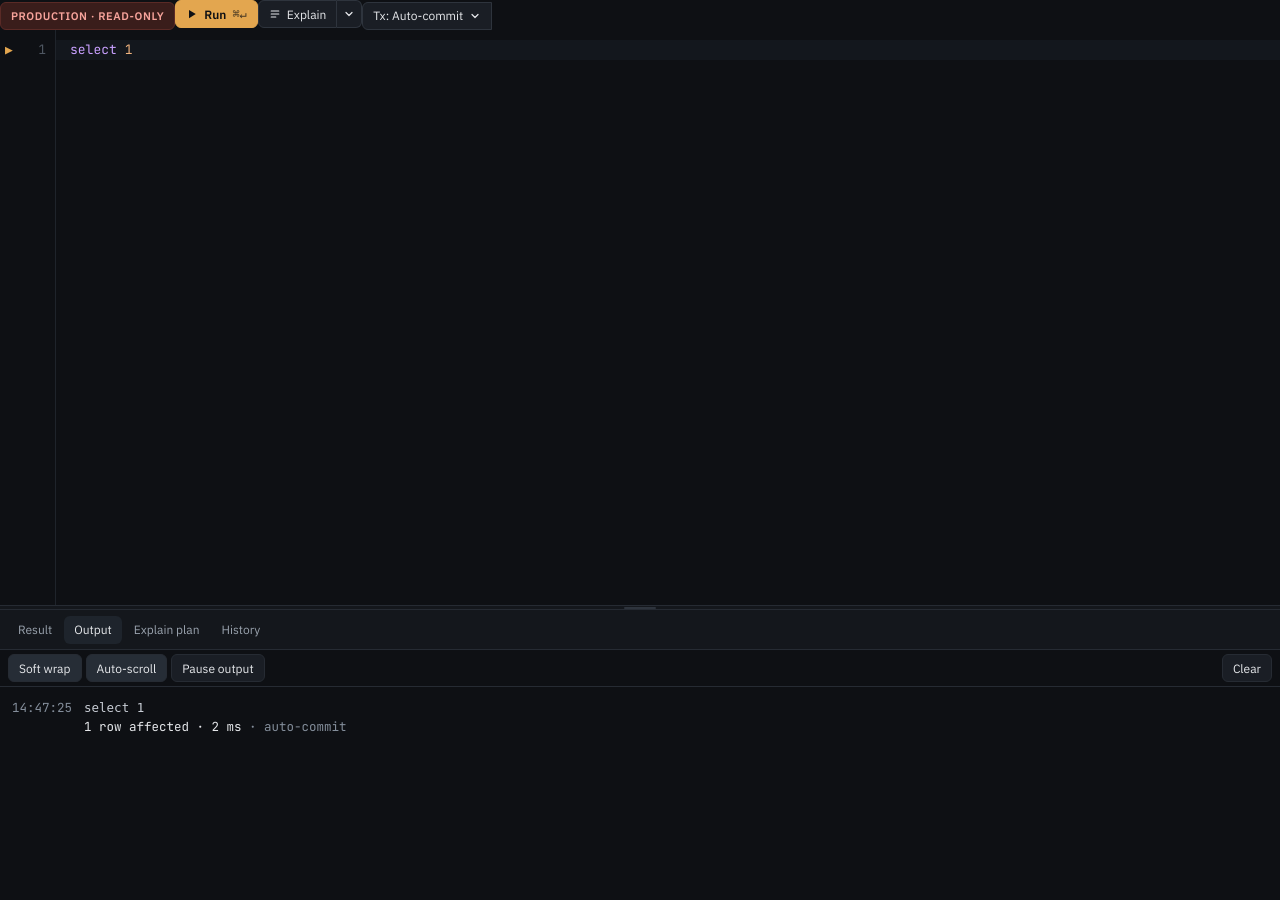
Test: read-only sessions › switches only this session to read-write after confirmation (spec: production-safeguards › Toggle)
This screenshot has width=1280, height=900.
Click the button "PRODUCTION · READ-ONLY". click: (88, 16)
box: [0,2,175,30]
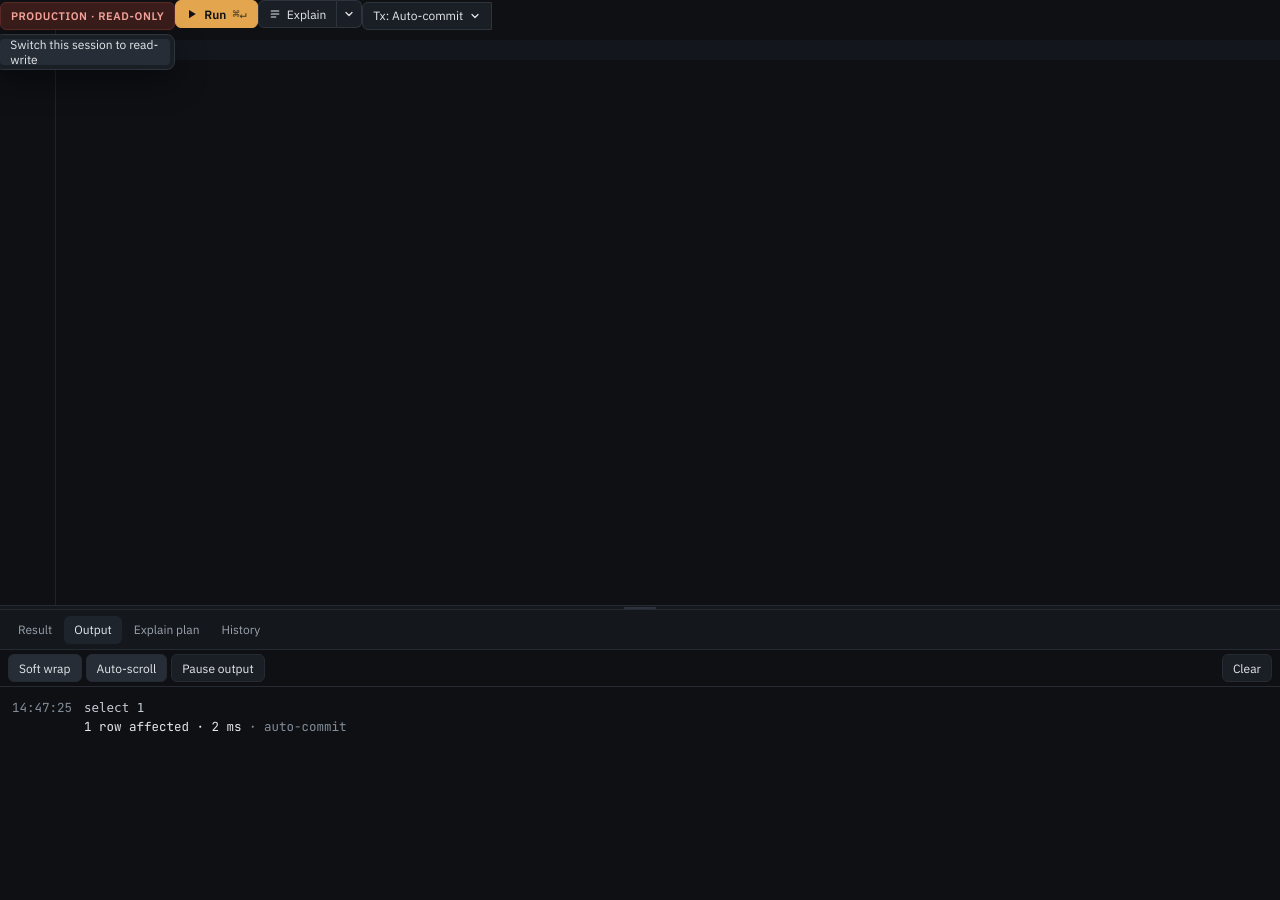
Click the menu item "Switch this session to read-write". click: (85, 52)
box: [0,39,170,65]
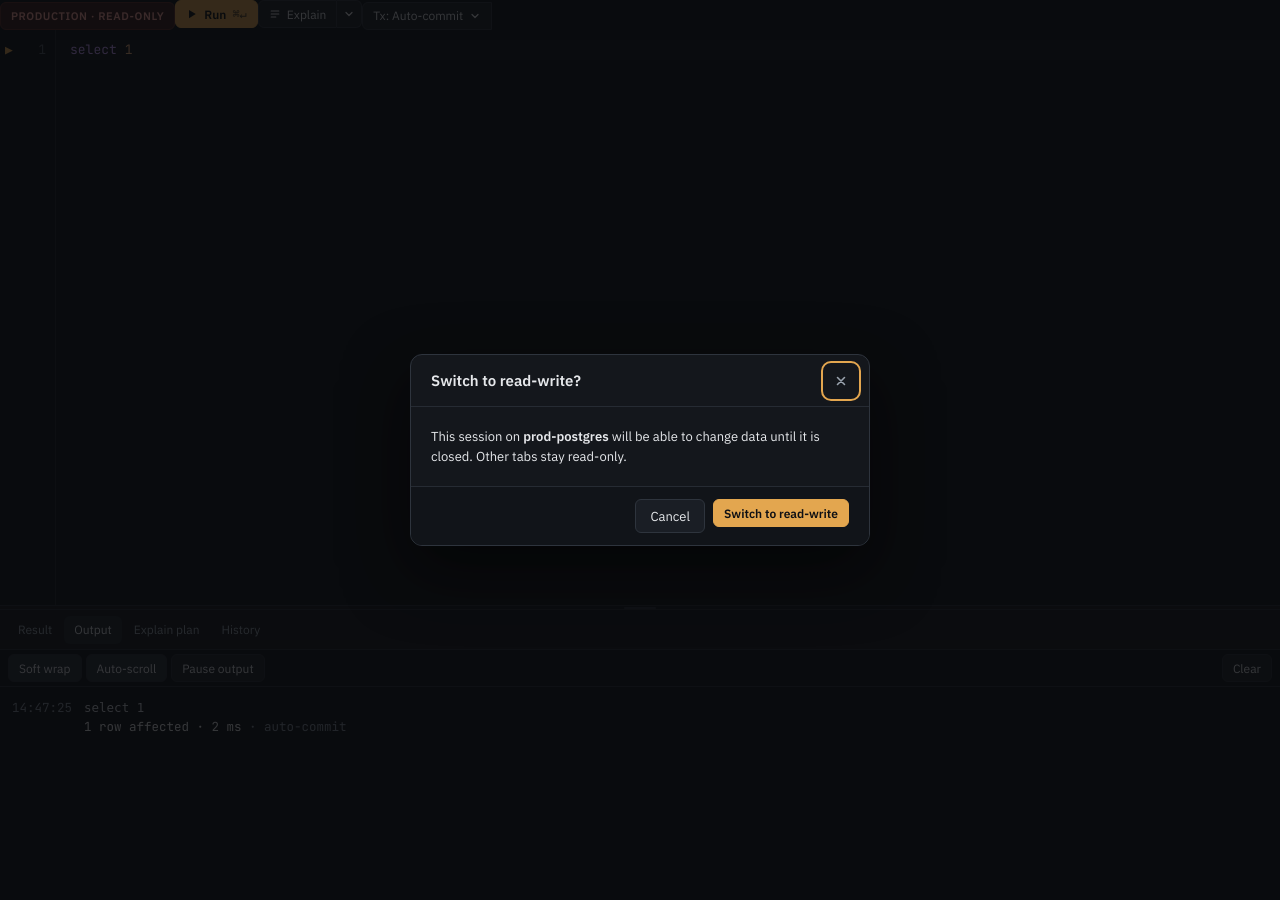
Expected: the dialog shows "Other tabs stay read-only", [431,428,820,464]
Click the button "Switch to read-write". click: (781, 513)
box: [713,499,849,527]
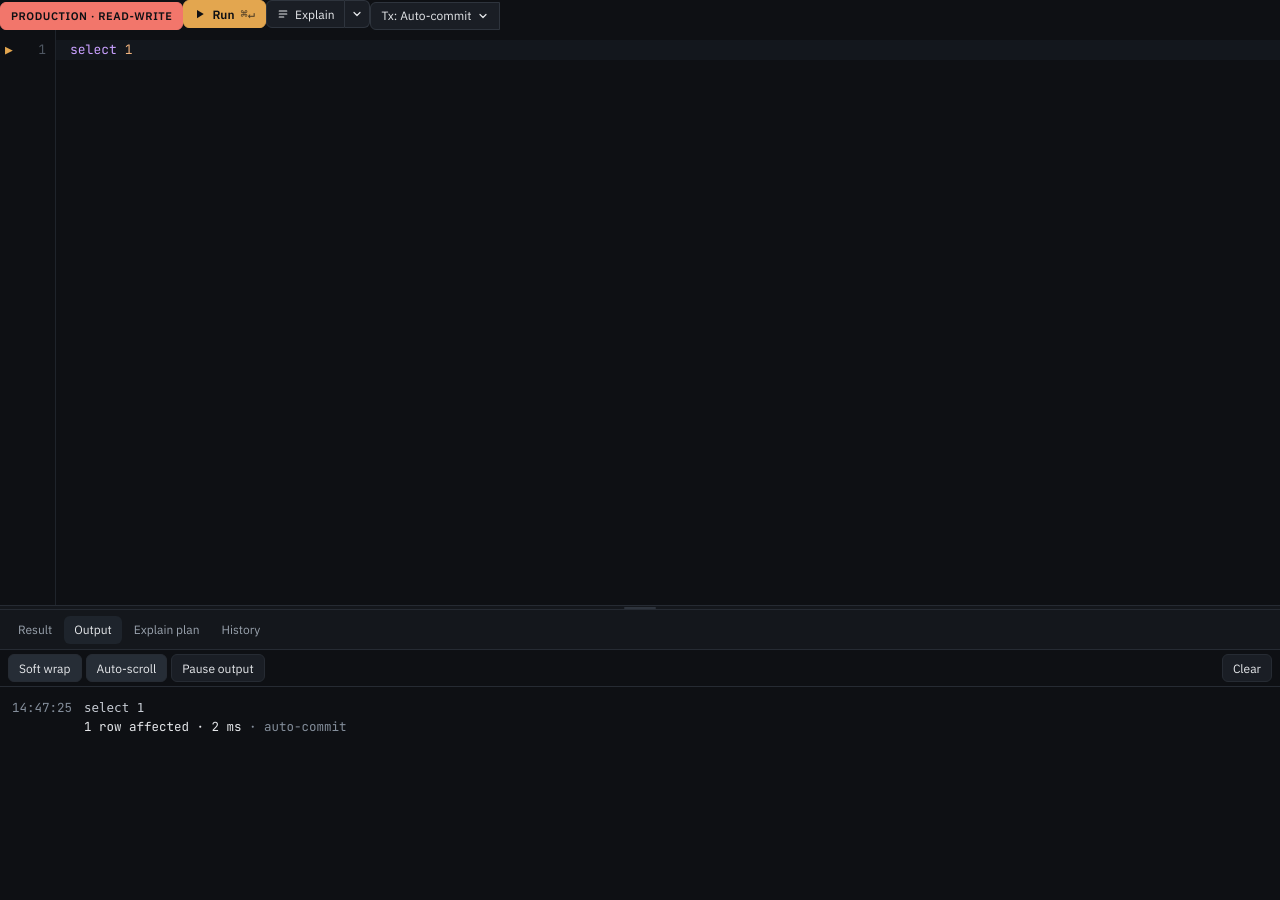
Expected: the button "PRODUCTION · READ-WRITE" is shown, [0,2,183,30]
